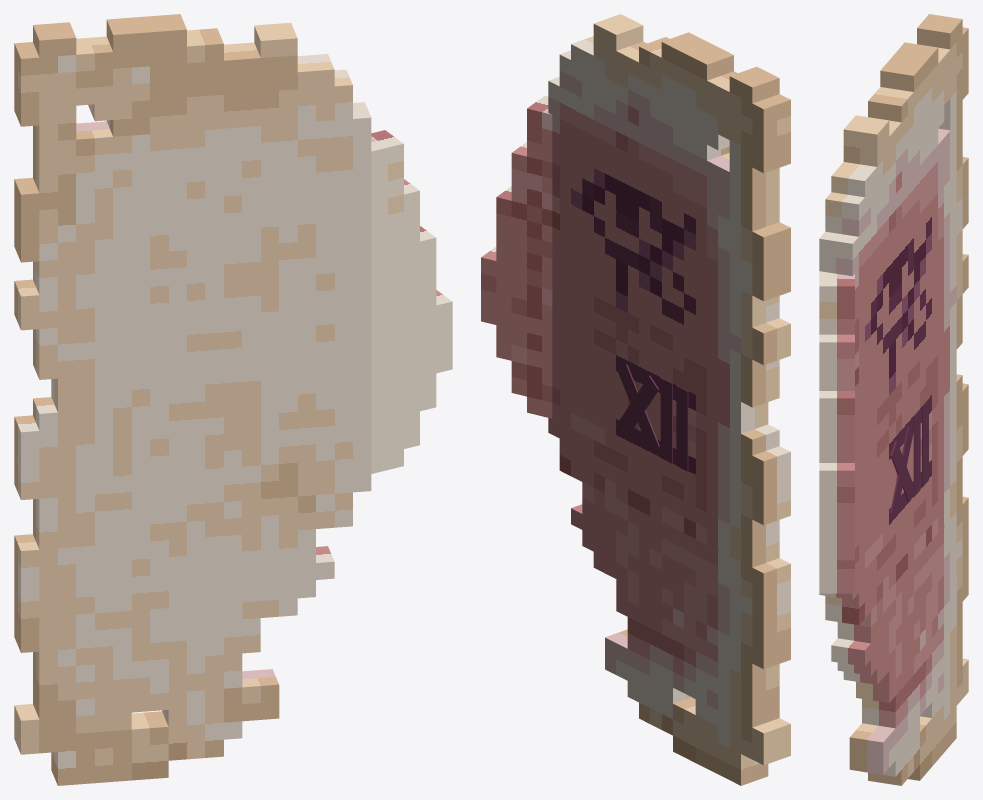
Rendered from lost_page_04L_XII.gltf.
The picture shows the model from 3 angles, left to right: view 1: azimuth 30°, elevation 25°; view 2: azimuth 150°, elevation 25°; view 3: azimuth 270°, elevation 25°; orthographic projection. The views are drawn at different scales.
Parts seen in each view (by area): view 1: MapLeft$$(4)-Local, MapCenter$$(4)-Local; view 2: MapLeft$$(4)-Local, MapCenter$$(4)-Local, V01-Local, I-Local, II-Local, V02-Local; view 3: MapLeft$$(4)-Local, MapCenter$$(4)-Local, I-Local, V01-Local, II-Local, V02-Local.
Boxes of the visible parts, x1,y1,x2,y2 form: MapLeft$$(4)-Local: (14, 14, 371, 785); MapCenter$$(4)-Local: (371, 130, 452, 473); MapLeft$$(4)-Local: (548, 14, 790, 785); MapCenter$$(4)-Local: (481, 95, 552, 418); V01-Local: (617, 364, 659, 450); I-Local: (660, 378, 672, 463); II-Local: (676, 385, 688, 471); V02-Local: (616, 375, 659, 438); MapLeft$$(4)-Local: (819, 14, 968, 785); MapCenter$$(4)-Local: (819, 271, 854, 593); I-Local: (913, 409, 920, 496); V01-Local: (890, 441, 914, 501); II-Local: (922, 399, 928, 487); V02-Local: (890, 426, 913, 516).
Size of the model in its own units: 22.85 by 44 by 8.38.
Materials: 6 (6 with a texture image).
